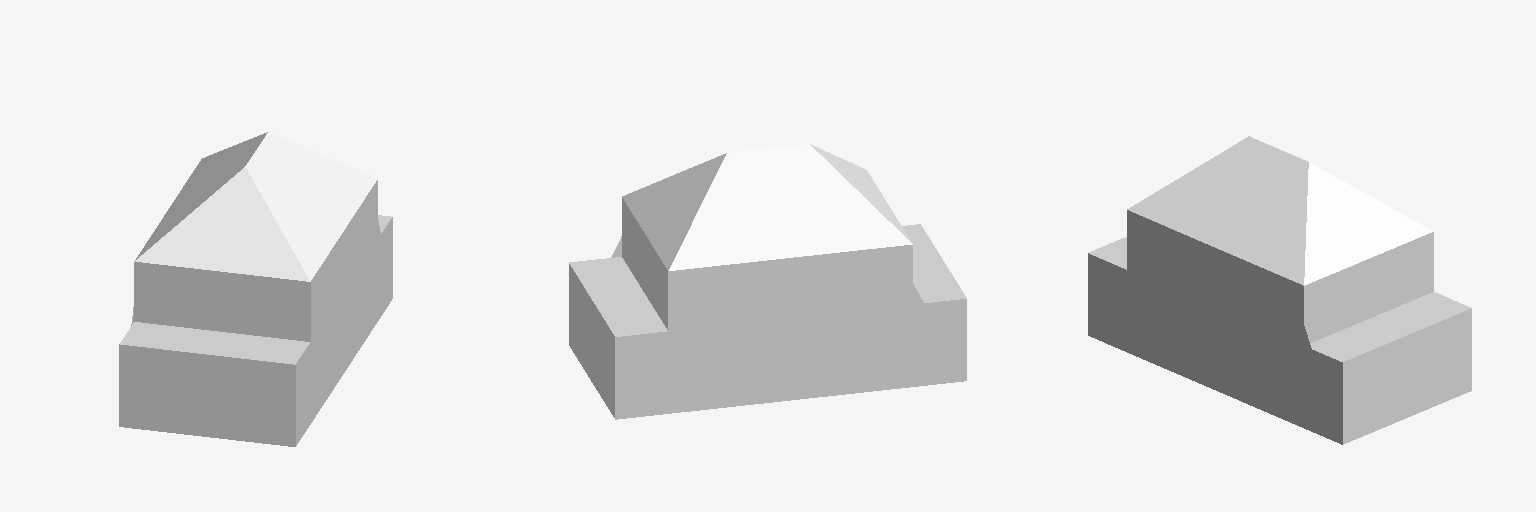
File: house_Shape 112.obj
3 renders of one model, left to right at view 1: azimuth 30°, elevation 25°; view 2: azimuth 150°, elevation 25°; view 3: azimuth 270°, elevation 25°, orthographic.
Parts seen in each view (by area): view 1: CityEngineMaterial_44, CityEngineMaterial_18, CityEngineMaterial_43, CityEngineMaterial_42, CityEngineMaterial_45; view 2: CityEngineMaterial_43, CityEngineMaterial_18, CityEngineMaterial_44, CityEngineMaterial_42; view 3: CityEngineMaterial_43, CityEngineMaterial_18, CityEngineMaterial_44, CityEngineMaterial_45, CityEngineMaterial_42.
Part boxes in pixels (x1,y1,x2,y2): CityEngineMaterial_44: (119, 262, 310, 446); CityEngineMaterial_18: (134, 132, 377, 281); CityEngineMaterial_43: (131, 217, 392, 445); CityEngineMaterial_42: (120, 215, 391, 364); CityEngineMaterial_45: (311, 180, 377, 319); CityEngineMaterial_43: (611, 198, 966, 419); CityEngineMaterial_18: (622, 144, 912, 270); CityEngineMaterial_44: (569, 245, 912, 417); CityEngineMaterial_42: (569, 224, 966, 336); CityEngineMaterial_43: (1088, 232, 1433, 444); CityEngineMaterial_18: (1127, 136, 1433, 285); CityEngineMaterial_44: (1343, 309, 1471, 444); CityEngineMaterial_45: (1127, 210, 1303, 324); CityEngineMaterial_42: (1089, 237, 1471, 361).
Bounding box in the file's own units: 15.26 × 9.31 × 15.15.